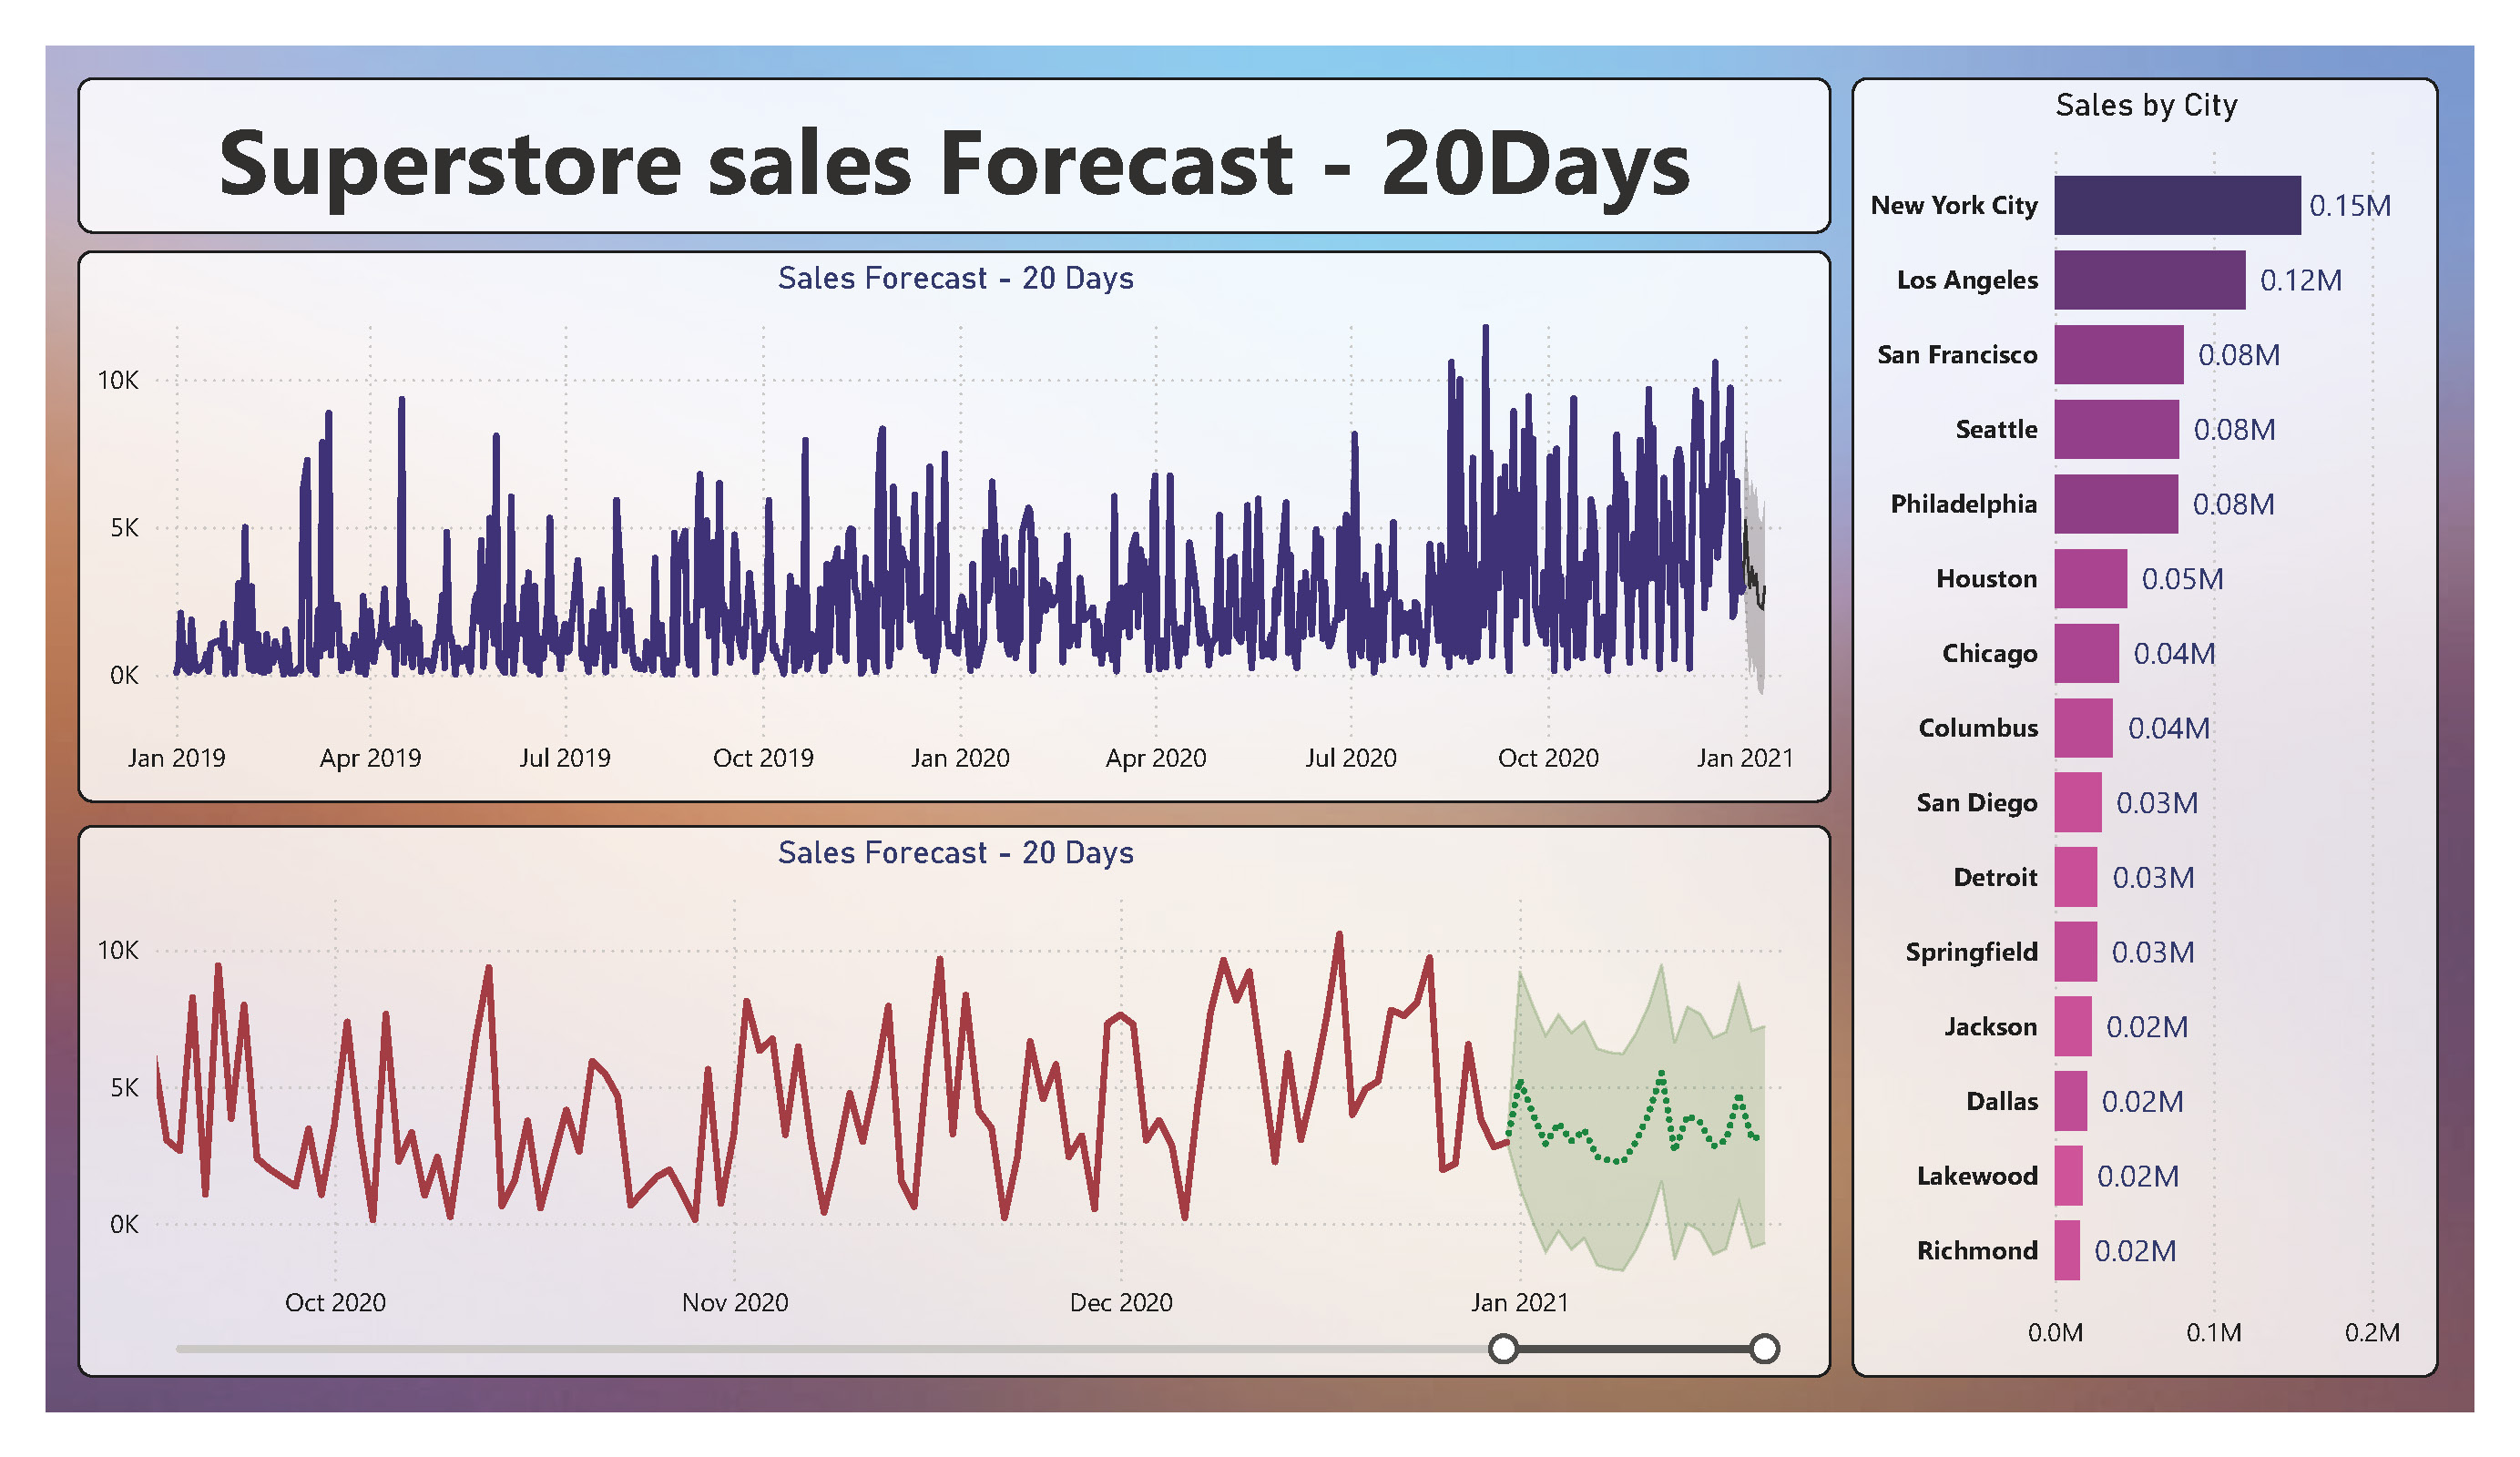

Layout of this report page (visuals, bound fields, positions):
{"tool":"powerbi","page":{"name":"Page 2","canvas":[1280,720],"ordinal":1},"visuals":[{"type":"barChart","fields":{"Category":["SuperStore_Sales_Dataset.City"],"Y":["Sum(SuperStore_Sales_Dataset.Sales)"]},"box":[952.2,17.2,309.2,684.7],"z":0},{"type":"lineChart","title":"Sales Forecast - 20 Days","fields":{"Y":["Sum(SuperStore_Sales_Dataset.Sales)"],"Category":["SuperStore_Sales_Dataset.Order Date"]},"box":[17.2,108,923.9,290.8],"z":1000},{"type":"textbox","box":[17.2,17.2,923.9,82.2],"z":2000},{"type":"lineChart","title":"Sales Forecast - 20 Days","fields":{"Y":["Sum(SuperStore_Sales_Dataset.Sales)"],"Category":["SuperStore_Sales_Dataset.Order Date"]},"box":[17.2,411,923.9,290.8],"z":3000}]}

Visuals, with their boxes on the page's 1280x720 design canvas (x1, y1, x2, y2). These are canvas units, not pixel positions in the 2520x1457 screenshot, which may show the page scaled, cropped or inside an application window:
barChart - SuperStore_Sales_Dataset.City x Sum(SuperStore_Sales_Dataset.Sales): {"left": 952, "top": 17, "right": 1261, "bottom": 702}
"Sales Forecast - 20 Days" lineChart: {"left": 17, "top": 108, "right": 941, "bottom": 399}
textbox: {"left": 17, "top": 17, "right": 941, "bottom": 99}
"Sales Forecast - 20 Days" lineChart: {"left": 17, "top": 411, "right": 941, "bottom": 702}
